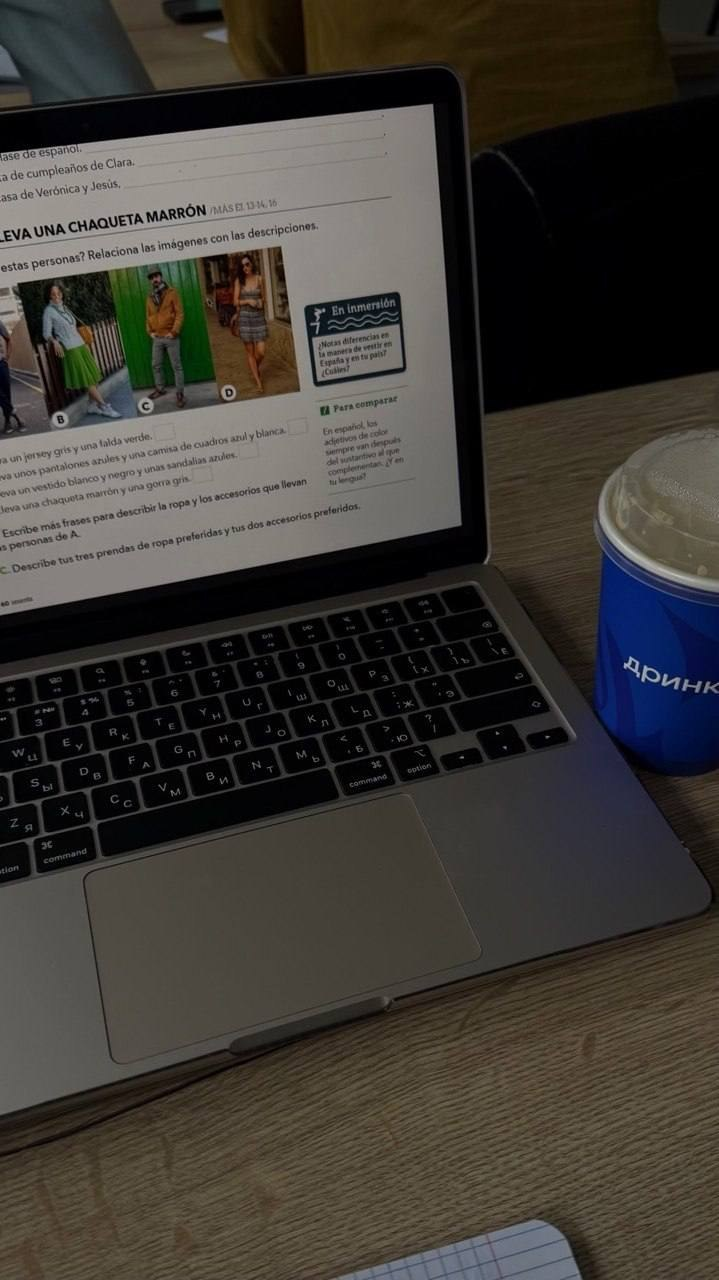laptop: (1, 62, 713, 1121)
